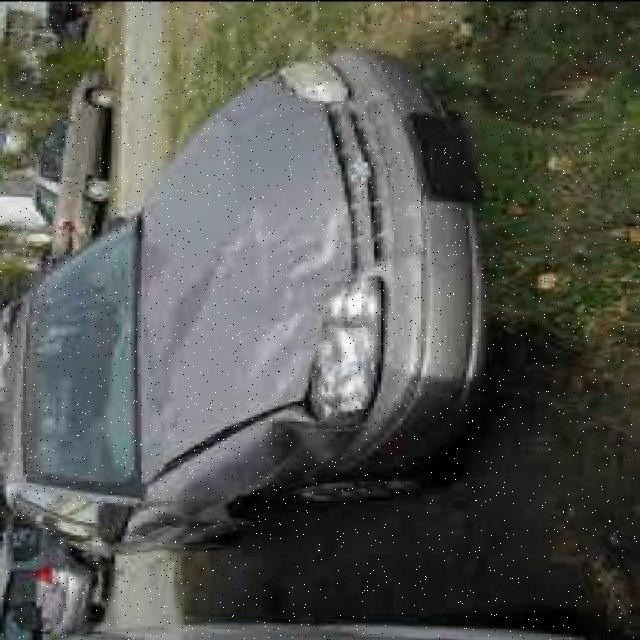damage: (212, 207, 371, 408), (263, 415, 362, 471)
